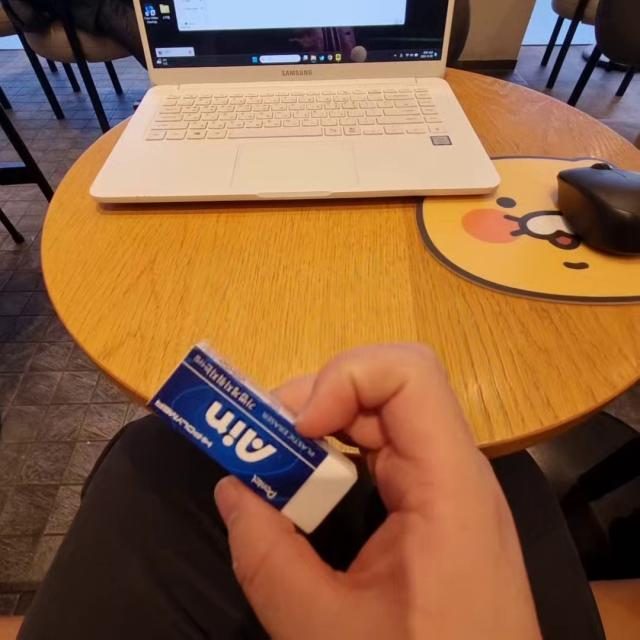grab_eraser: (157, 338, 526, 640)
mouse: (536, 165, 640, 268)
